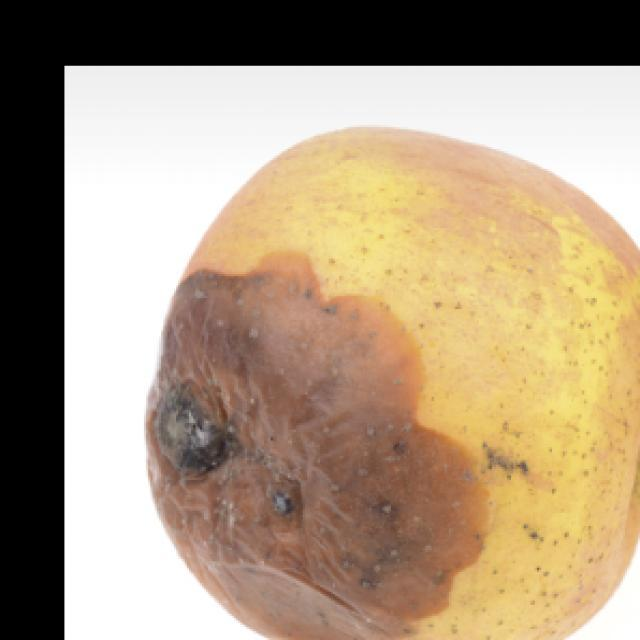Rotten: (135, 126, 640, 640)
